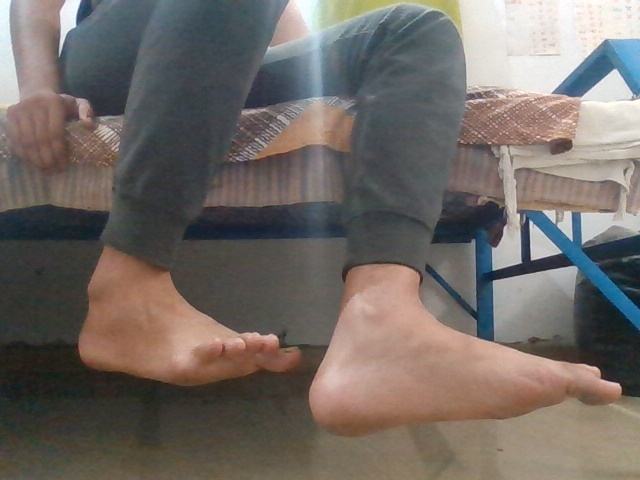foot: (309, 321, 623, 436), (77, 297, 301, 389)
